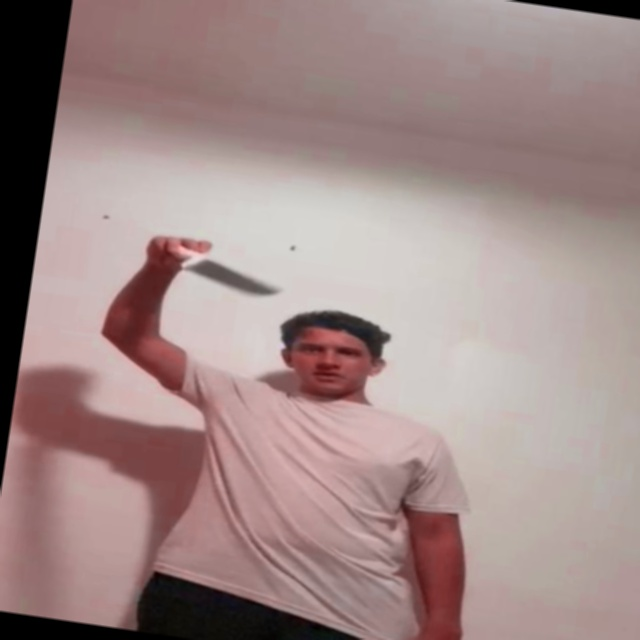Sharp-Object: (182, 254, 281, 294)
